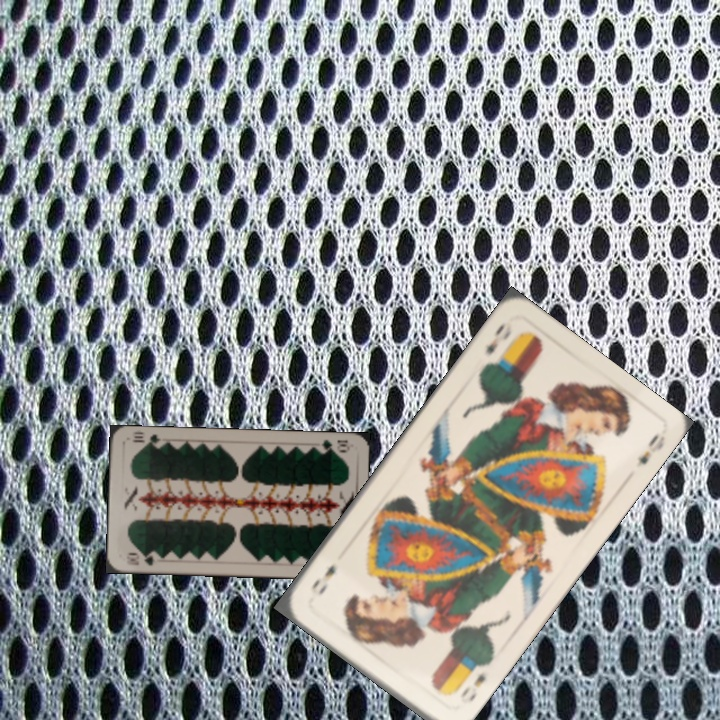EO: (481, 317, 515, 358), (456, 667, 489, 705)
G10: (313, 436, 352, 455), (123, 550, 157, 568)
